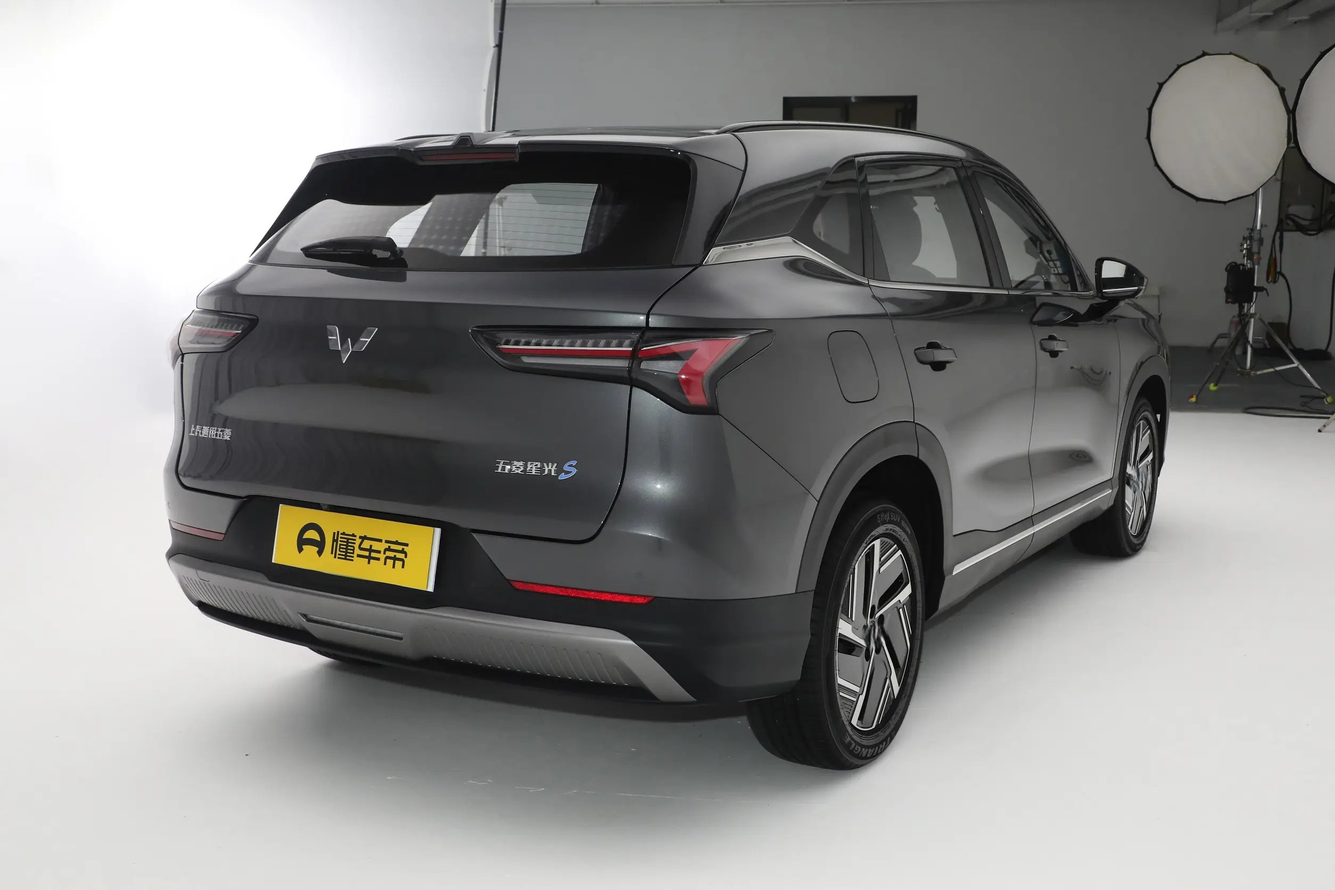SGMW: (327, 325, 377, 362)
